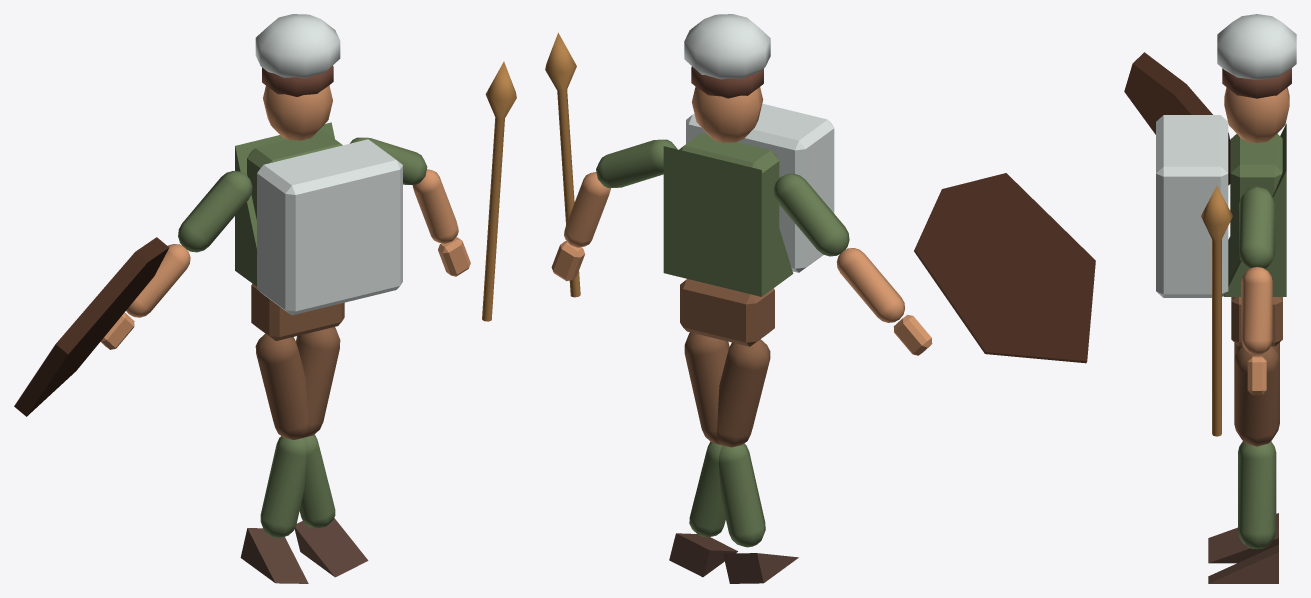
File: adventurer.rustic.glb
The picture shows the model from 3 angles, left to right: view 1: azimuth 30°, elevation 25°; view 2: azimuth 150°, elevation 25°; view 3: azimuth 270°, elevation 25°; orthographic projection.
Visible parts, largest first — view 1: accessory.body, accessory.off-hand, accessory.head, thigh.left, shin.right, accessory.main-hand, upper-arm.left, thigh.right, head, pelvis, foot.left, tunic (+9 smaller); view 2: accessory.off-hand, tunic, accessory.body, pelvis, accessory.head, thigh.left, shin.right, upper-arm.left, thigh.right, head, accessory.main-hand, forearm.left (+9 smaller); view 3: accessory.body, accessory.head, shin.left, accessory.off-hand, thigh.right, torso, accessory.main-hand, upper-arm.right, head, forearm.right, tunic, foot.left (+4 smaller).
Boxes of the visible parts, x1,y1,x2,y2 form: accessory.body: (257,139,402,315); accessory.off-hand: (14,237,169,416); accessory.head: (255,14,340,78); thigh.left: (255,333,308,439); shin.right: (260,436,306,538); accessory.main-hand: (482,61,516,321); upper-arm.left: (178,171,252,252); thigh.right: (296,327,340,437); head: (263,85,332,140); pelvis: (251,283,344,340); foot.left: (294,518,368,577); tunic: (235,122,334,286); accessory.off-hand: (914,173,1095,363); tunic: (663,146,793,296); accessory.body: (686,103,834,272); pelvis: (680,279,774,346); accessory.head: (684,14,770,79); thigh.left: (717,339,770,447); shin.right: (718,443,765,547); upper-arm.left: (773,173,849,256); thigh.right: (684,332,729,444); head: (692,86,763,142); accessory.main-hand: (545,32,580,297); forearm.left: (836,248,904,322); accessory.body: (1156,115,1228,297); accessory.head: (1217,14,1296,79); shin.left: (1238,442,1276,549); accessory.off-hand: (1124,52,1230,185); thigh.right: (1234,346,1279,446); torso: (1230,134,1282,274); accessory.main-hand: (1201,186,1232,436); upper-arm.right: (1239,186,1275,269); head: (1224,87,1289,142); forearm.right: (1241,267,1272,354); tunic: (1223,123,1286,296); foot.left: (1208,544,1278,583).
Bounding box in the file's own units: 3.16 × 3.18 × 0.9041.
